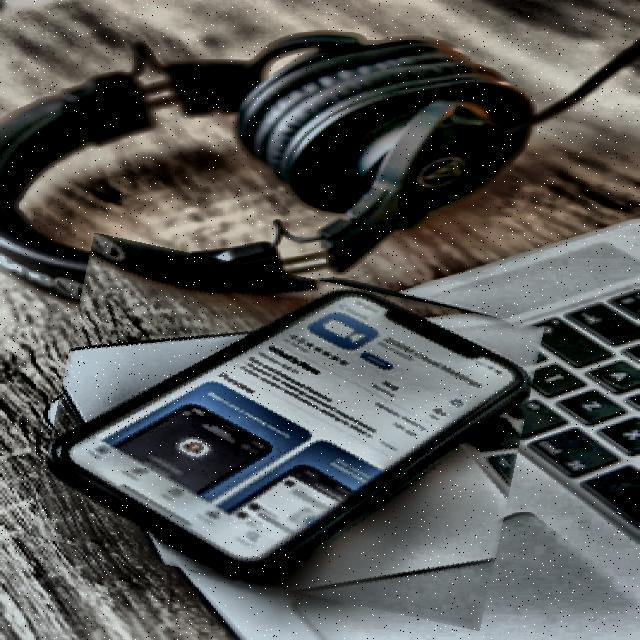Phone: (44, 255, 531, 609)
